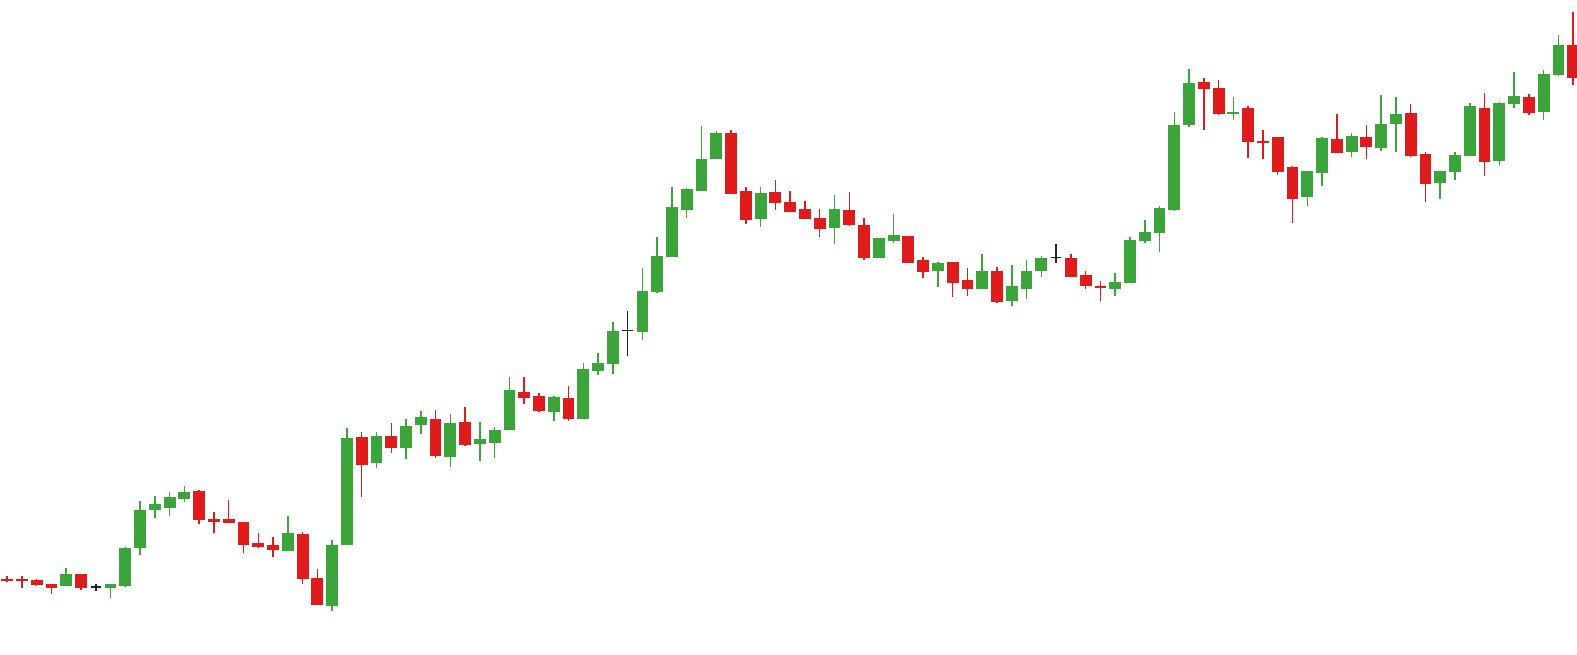buy: (90, 522, 340, 622)
